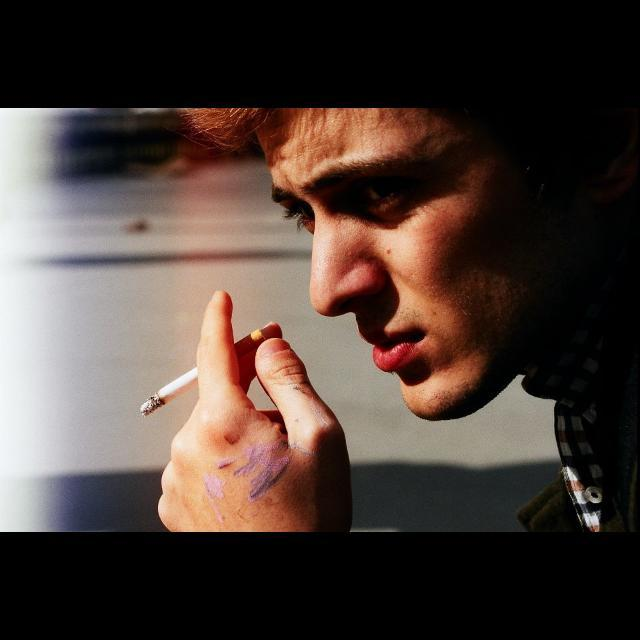rokok: (138, 322, 264, 421)
